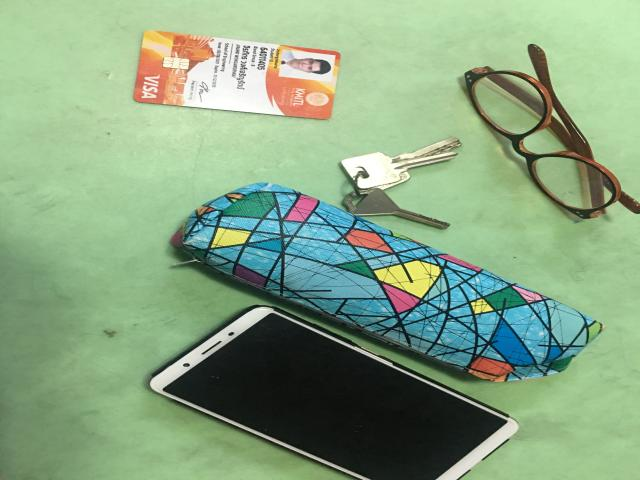Glasses: (465, 45, 638, 218)
Keys: (342, 137, 462, 228)
Mobile phone: (150, 306, 518, 480)
